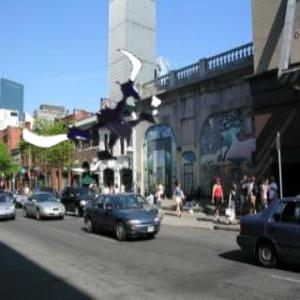drone: (37, 45, 176, 184)
